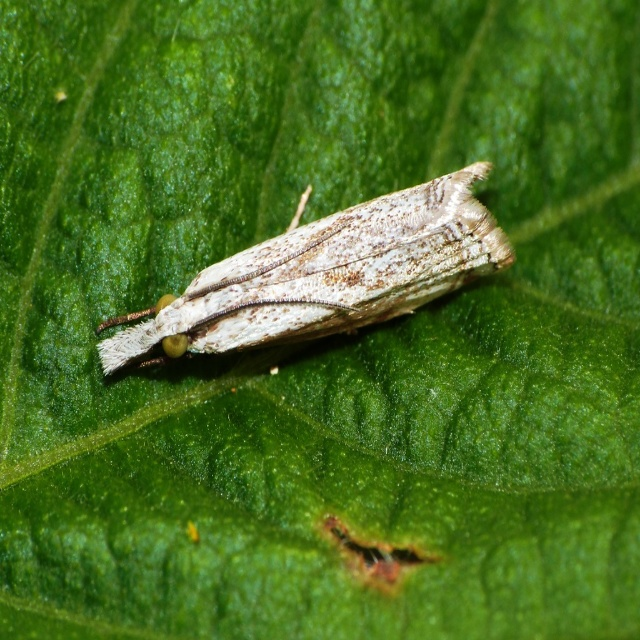Moths and butterflies: (95, 161, 517, 377)
